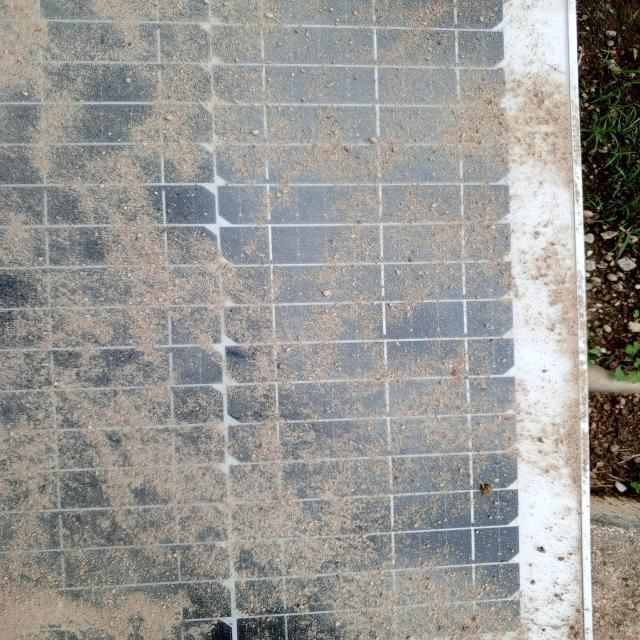Anomaly Solar Panel: (8, 3, 543, 639)
Surface Contaminant: (10, 12, 558, 632)
